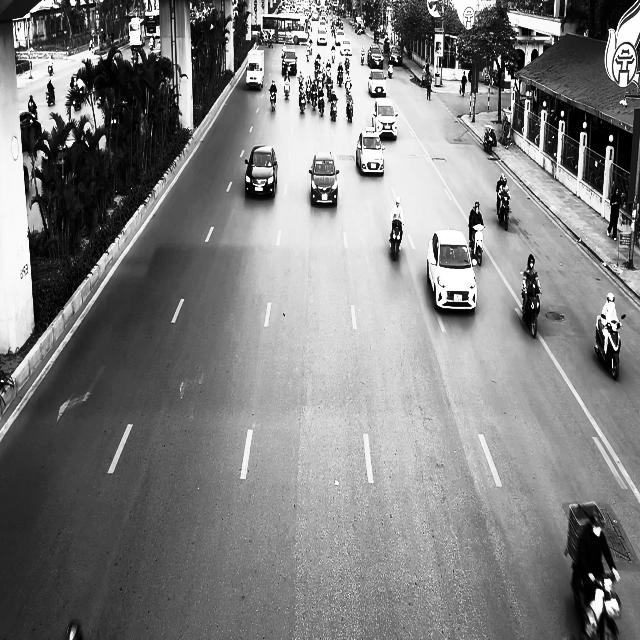bus: (261, 12, 309, 44)
car: (427, 228, 477, 313), (245, 145, 278, 198), (308, 150, 339, 206), (356, 128, 385, 176), (372, 96, 398, 140), (368, 69, 387, 97), (282, 49, 297, 75), (389, 45, 403, 65), (340, 38, 353, 55)
motorbike: (571, 562, 621, 639), (594, 313, 626, 380), (522, 284, 542, 337), (469, 223, 486, 266), (389, 219, 404, 260), (497, 192, 511, 231), (330, 96, 339, 121), (347, 99, 354, 123), (270, 89, 277, 111), (46, 88, 55, 105), (284, 77, 290, 98), (388, 64, 393, 78)
